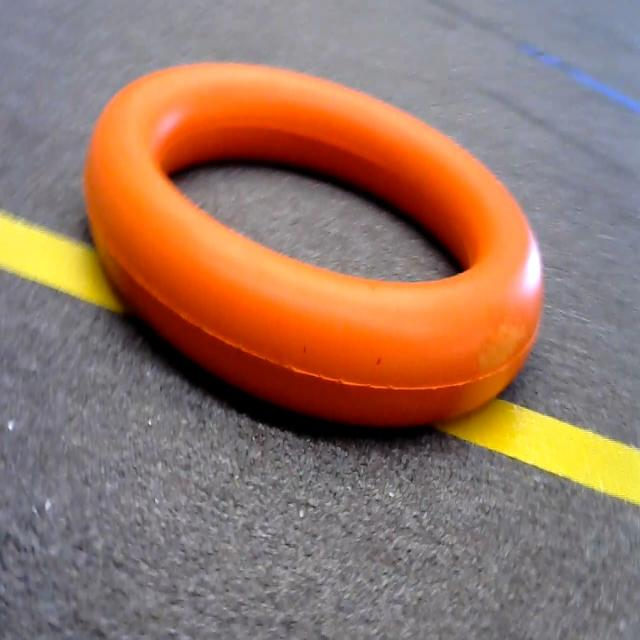note: (73, 33, 556, 450)
